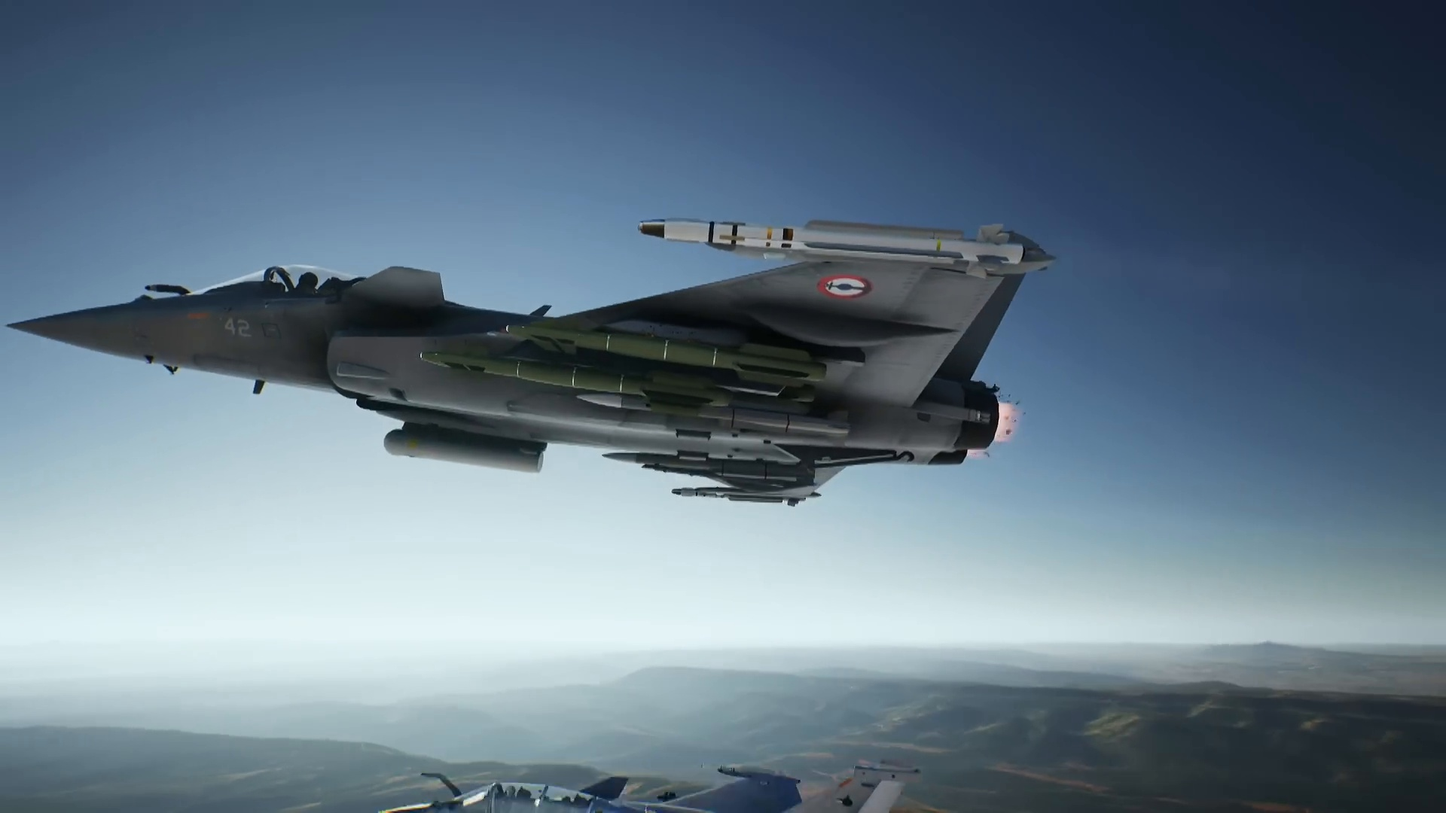Rafale: (4, 214, 1054, 506)
